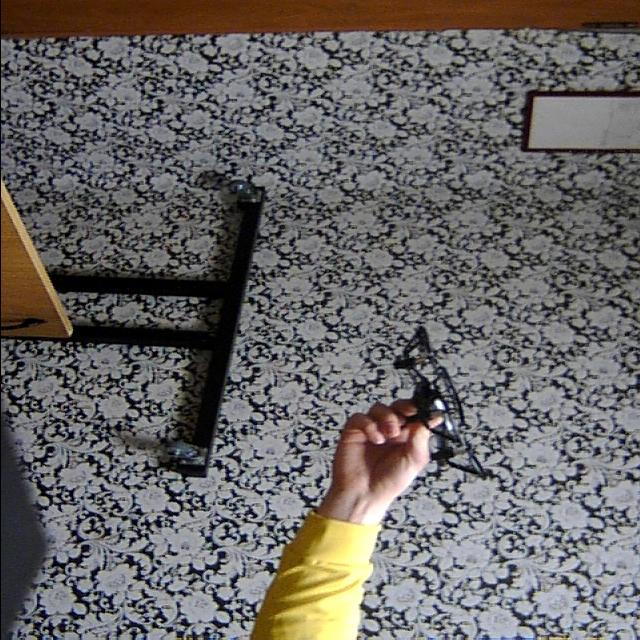drone: (393, 310, 509, 493)
